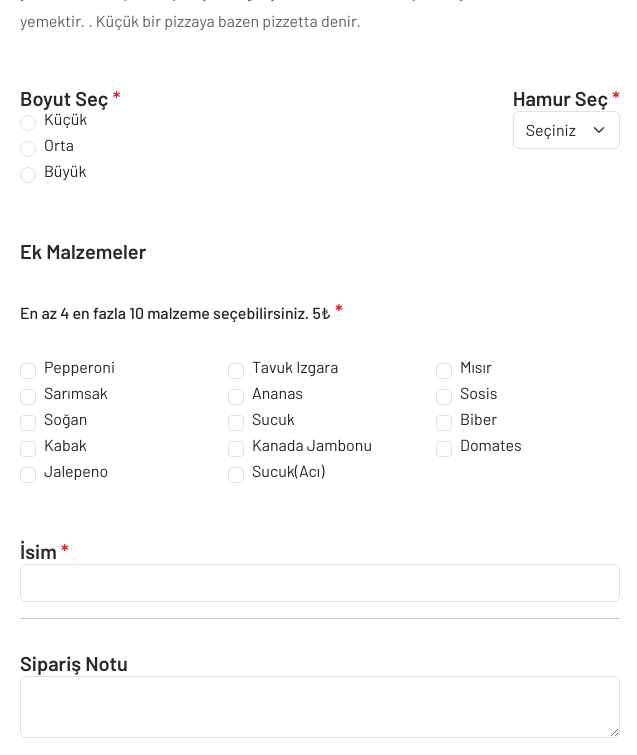
Test: Sipariş Sayfası Testleri › Dört malzeme seçtikten sonra uyarı kalkmalı
The image size is (637, 755).
(page scrolled)
Check the checkbox with test id "ingredient-checkbox" showing "Pepperoni" at (28, 371), box [20,363,36,379]
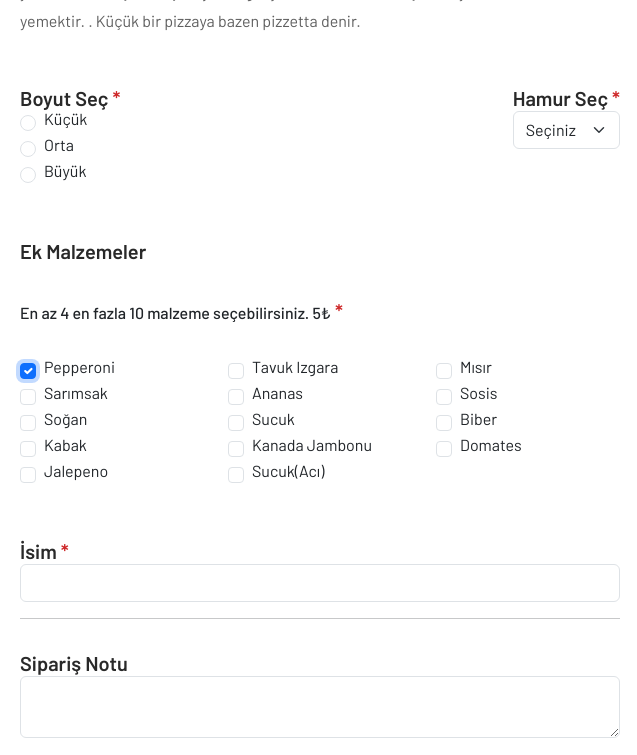
Check the checkbox with test id "ingredient-checkbox" showing "Tavuk Izgara" at (236, 371), box [228,363,244,379]
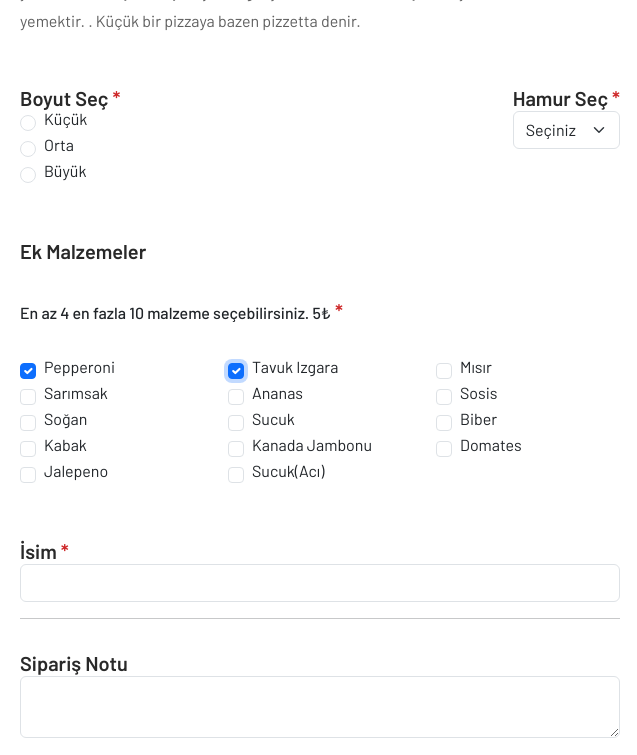
Check the checkbox with test id "ingredient-checkbox" showing "Mısır" at (444, 371), box [436,363,452,379]
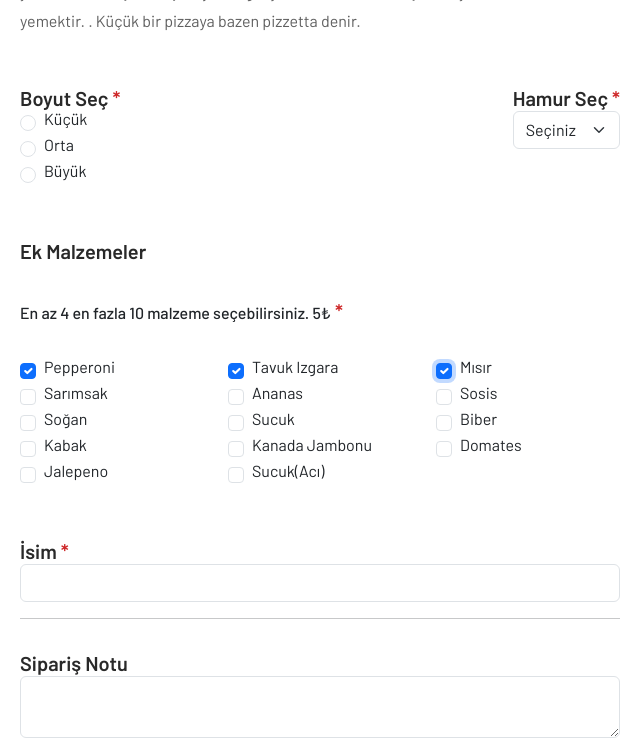
Check the checkbox with test id "ingredient-checkbox" showing "Sarımsak" at (28, 397), box [20,389,36,405]
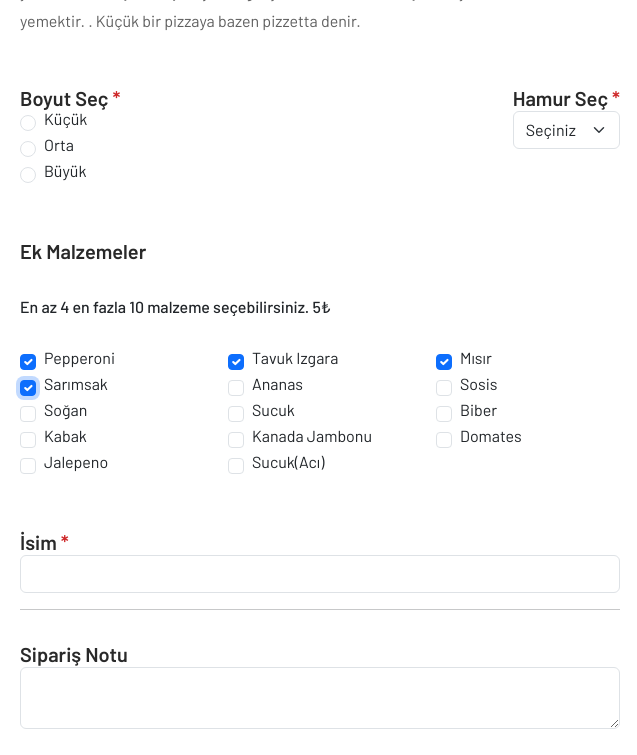
expect the text with test id "ingredient-warn" is gone: met
